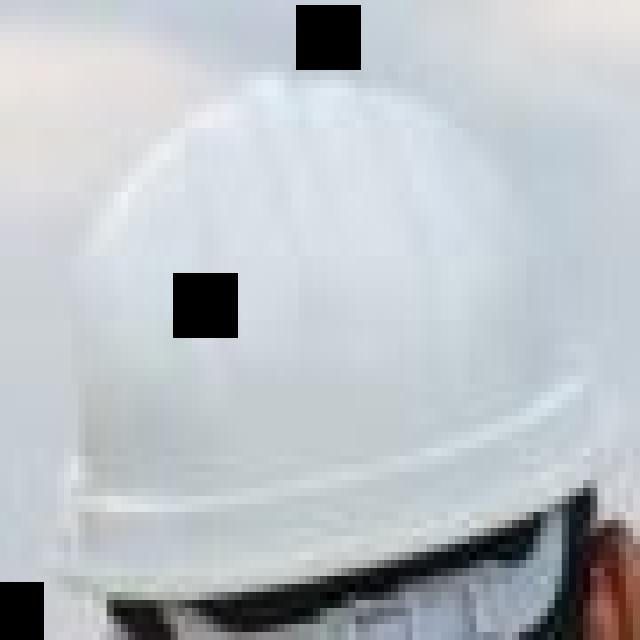white helmet: (41, 78, 602, 585)
